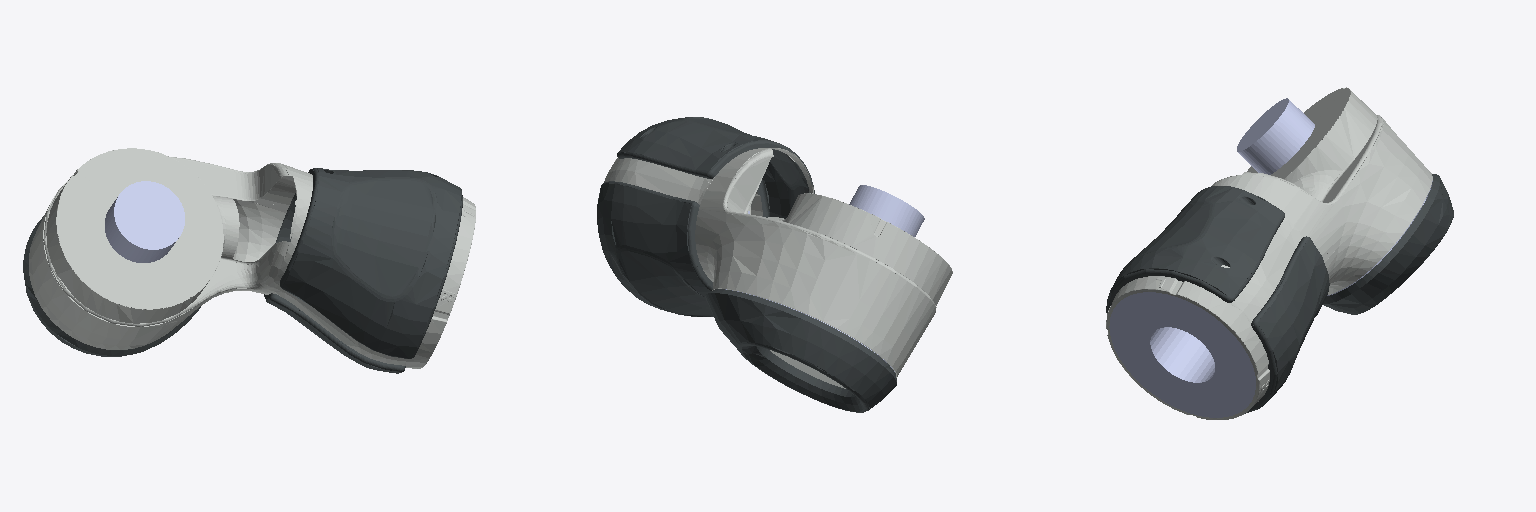
The model's file is IRB14000_rev00_Link2_R.obj.
3 views of the same model, side by side, from view 1: azimuth 30°, elevation 25°; view 2: azimuth 150°, elevation 25°; view 3: azimuth 270°, elevation 25° (orthographic).
Parts seen in each view (by area): view 1: Link2_R3.0-1, Link2_R3.0-2, Link2_R3.0; view 2: Link2_R3.0-1, Link2_R3.0-2, Link2_R3.0; view 3: Link2_R3.0-1, Link2_R3.0-2, Link2_R3.0.
Boxes of the visible parts, x1=… form: Link2_R3.0-1: x1=29, y1=148, x2=475, y2=368; Link2_R3.0-2: x1=23, y1=168, x2=462, y2=373; Link2_R3.0: x1=105, y1=181, x2=184, y2=262; Link2_R3.0-1: x1=604, y1=148, x2=952, y2=388; Link2_R3.0-2: x1=597, y1=117, x2=896, y2=412; Link2_R3.0: x1=725, y1=185, x2=924, y2=371; Link2_R3.0-1: x1=1106, y1=87, x2=1432, y2=419; Link2_R3.0-2: x1=1106, y1=174, x2=1453, y2=413; Link2_R3.0: x1=1109, y1=98, x2=1432, y2=417.
Bounding box in the file's own units: 0.2328 × 0.1274 × 0.1886.